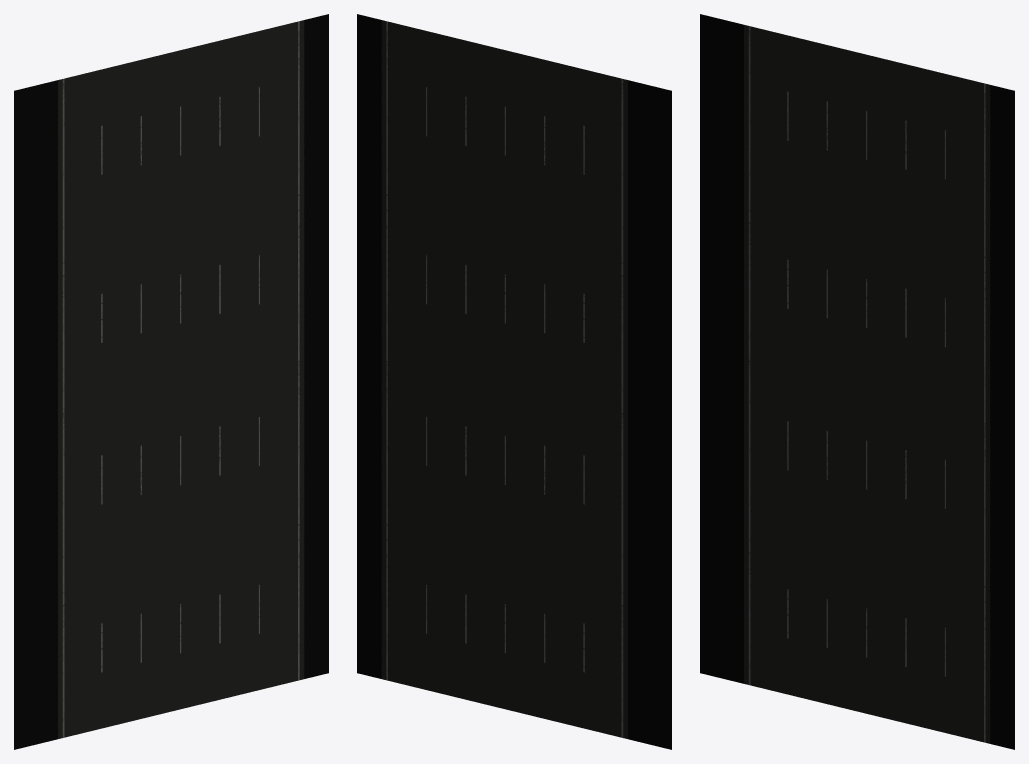
File: basic-6ls-node-1.fbx
3 views of the same model, side by side, from view 1: azimuth 30°, elevation 25°; view 2: azimuth 150°, elevation 25°; view 3: azimuth 330°, elevation 25° (orthographic).
Visible parts, largest first — view 1: basic-6ls-node-1; view 2: basic-6ls-node-1; view 3: basic-6ls-node-1.
Boxes of the visible parts, box(x1,y1,x2,y2) form: basic-6ls-node-1: box(14, 14, 328, 749); basic-6ls-node-1: box(357, 14, 671, 749); basic-6ls-node-1: box(700, 14, 1014, 749).
Size of the model in its own units: 3200 by 6400 by 0.000763.
Materials: 1 (1 with a texture image).
